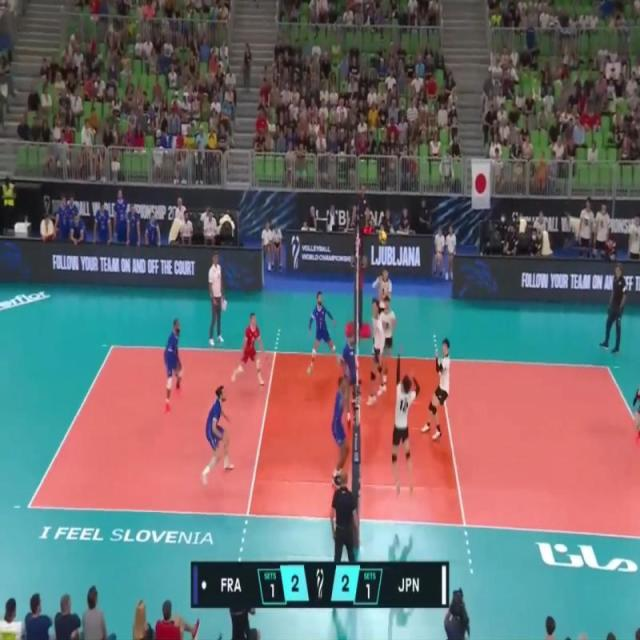volleyball: (377, 230, 388, 246)
